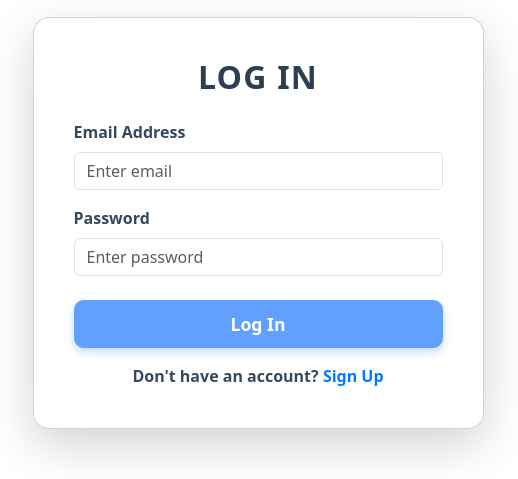
Scenario: LogIn Component › submit button is disabled if inputs are empty or email invalid
Check: the button "Log In" is disabled, box [74, 300, 442, 348]
Type "invalidemail" into the field labelled "Email Address".
click(258, 171); type("invalidemail")  # box [74, 152, 442, 190]
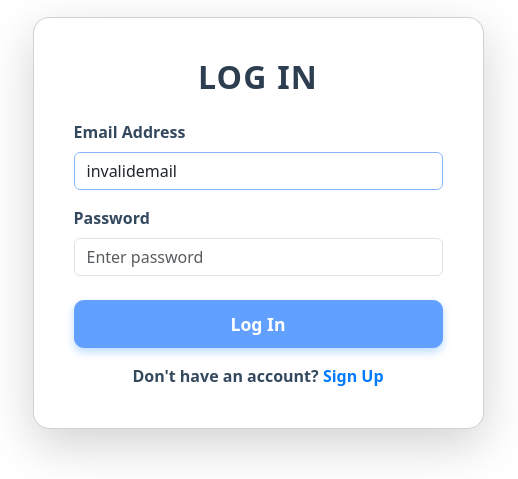
Check: the button "Log In" is disabled, box [74, 300, 442, 348]
Replace the text in the field labelled "Email Address" with "user@example.com" at (258,171), box [74, 152, 442, 190]
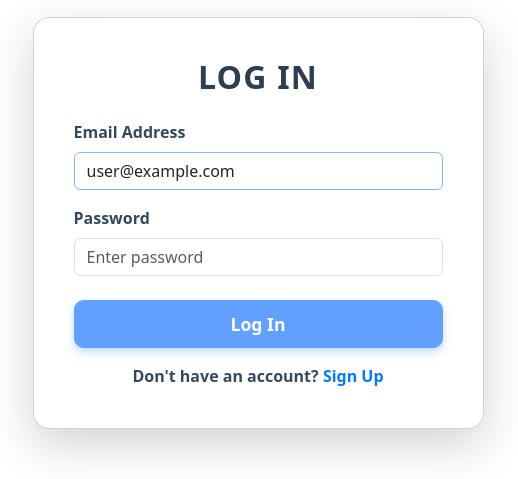
Check: the button "Log In" is disabled, box [74, 300, 442, 348]
Type "password123" into the password field labelled "Password".
click(258, 257); type("password123")  # box [74, 238, 442, 276]
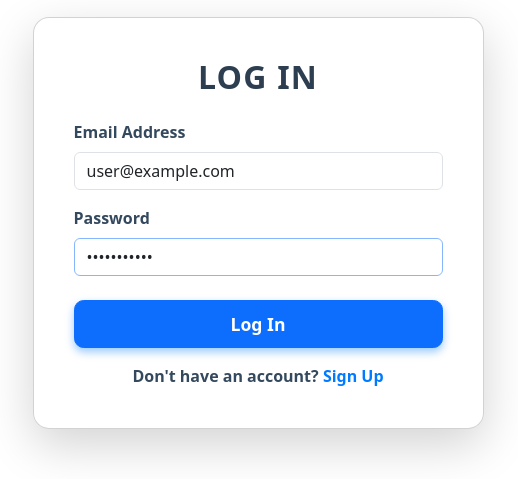
Check: the button "Log In" is enabled, box [74, 300, 442, 348]
